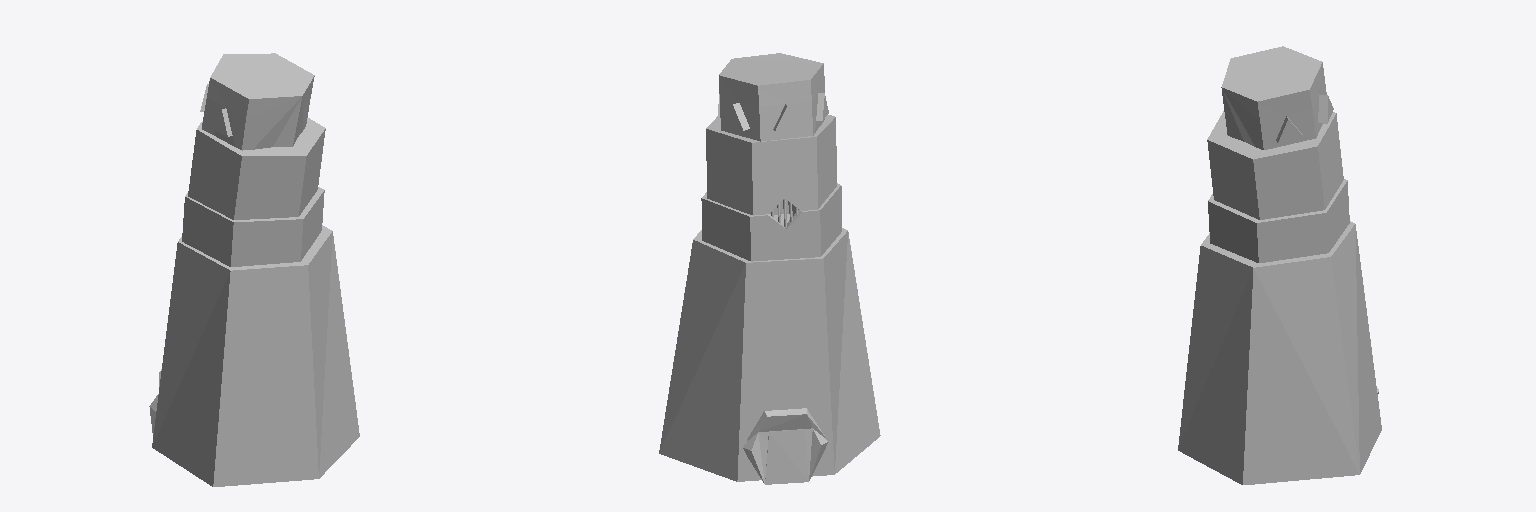
Rendered from model-triangulated.obj.
The picture shows the model from 3 angles: view 1: azimuth 30°, elevation 25°; view 2: azimuth 150°, elevation 25°; view 3: azimuth 270°, elevation 25°; orthographic projection.
Parts seen in each view (by area): view 1: group[number redacted], group[number redacted], group[number redacted], group[number redacted]; view 2: group[number redacted], group[number redacted], group[number redacted], group[number redacted], group[number redacted], group[number redacted]; view 3: group[number redacted], group[number redacted], group[number redacted], group[number redacted].
Boxes of the visible parts, <box> form: group[number redacted]: <box>152,225,359,486</box>; group[number redacted]: <box>188,118,325,219</box>; group[number redacted]: <box>200,53,314,150</box>; group[number redacted]: <box>182,187,324,266</box>; group[number redacted]: <box>659,214,880,481</box>; group[number redacted]: <box>706,115,836,215</box>; group[number redacted]: <box>717,53,828,141</box>; group[number redacted]: <box>701,183,841,261</box>; group[number redacted]: <box>743,408,827,483</box>; group[number redacted]: <box>765,429,808,484</box>; group[number redacted]: <box>1178,221,1381,484</box>; group[number redacted]: <box>1207,111,1343,219</box>; group[number redacted]: <box>1221,46,1333,149</box>; group[number redacted]: <box>1208,179,1349,262</box>.
Bounding box in the file's own units: 0.4055 × 0.8557 × 0.42.